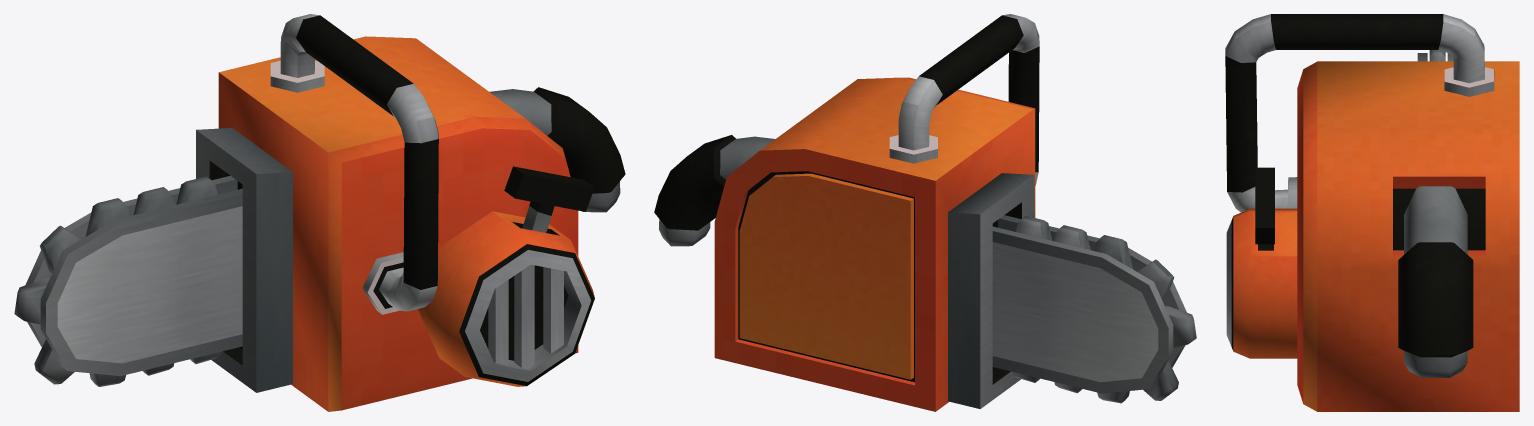
File: chain_saw.fbx
The picture shows the model from 3 angles, left to right: view 1: azimuth 30°, elevation 25°; view 2: azimuth 150°, elevation 25°; view 3: azimuth 270°, elevation 25°; orthographic projection. The views are drawn at different scales.
Parts seen in each view (by area): view 1: chainsaw; view 2: chainsaw; view 3: chainsaw.
Part boxes in pixels (box(x1,y1,x2,y2)): chainsaw: box(14, 14, 625, 411); chainsaw: box(654, 14, 1196, 411); chainsaw: box(1225, 14, 1519, 411).
Bounding box in the file's own units: 71.95 × 39.16 × 33.26.
